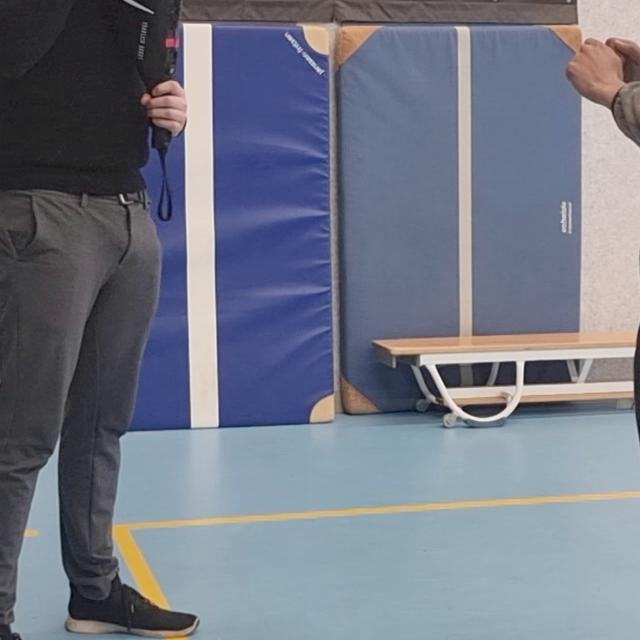paddle: (87, 0, 184, 153)
